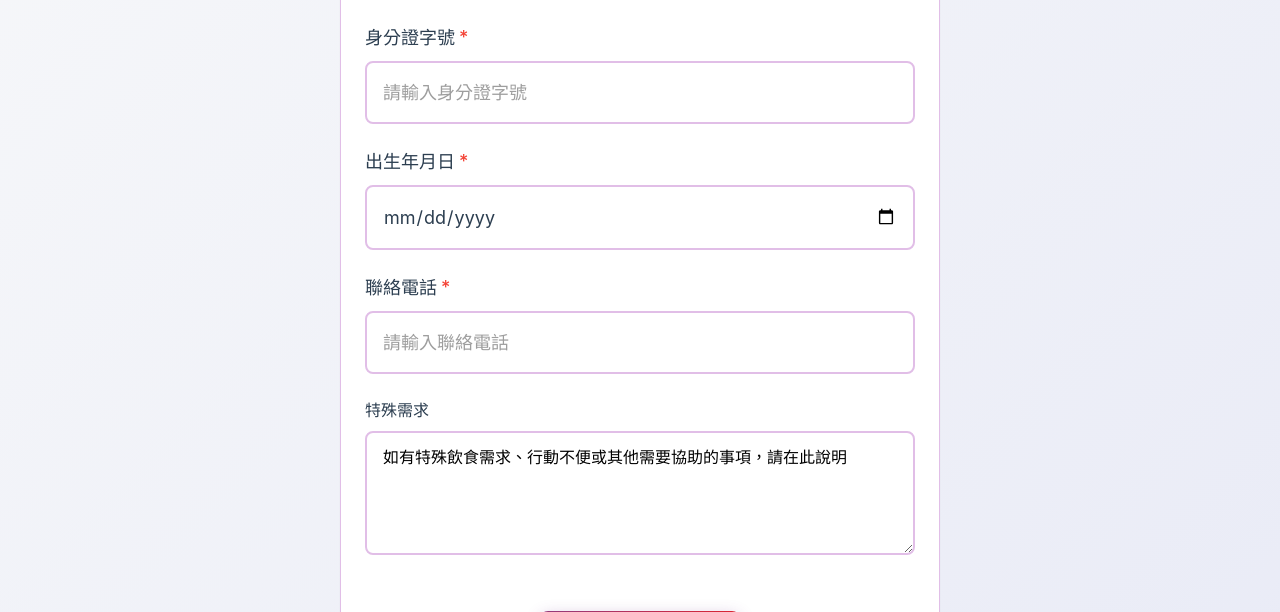
it: PersonalInfoForm › Form Validation › should validate phone number format
(page scrolled)
Type "123" into the field labelled "聯絡電話*". click: (640, 342)
box: [365, 311, 915, 374]
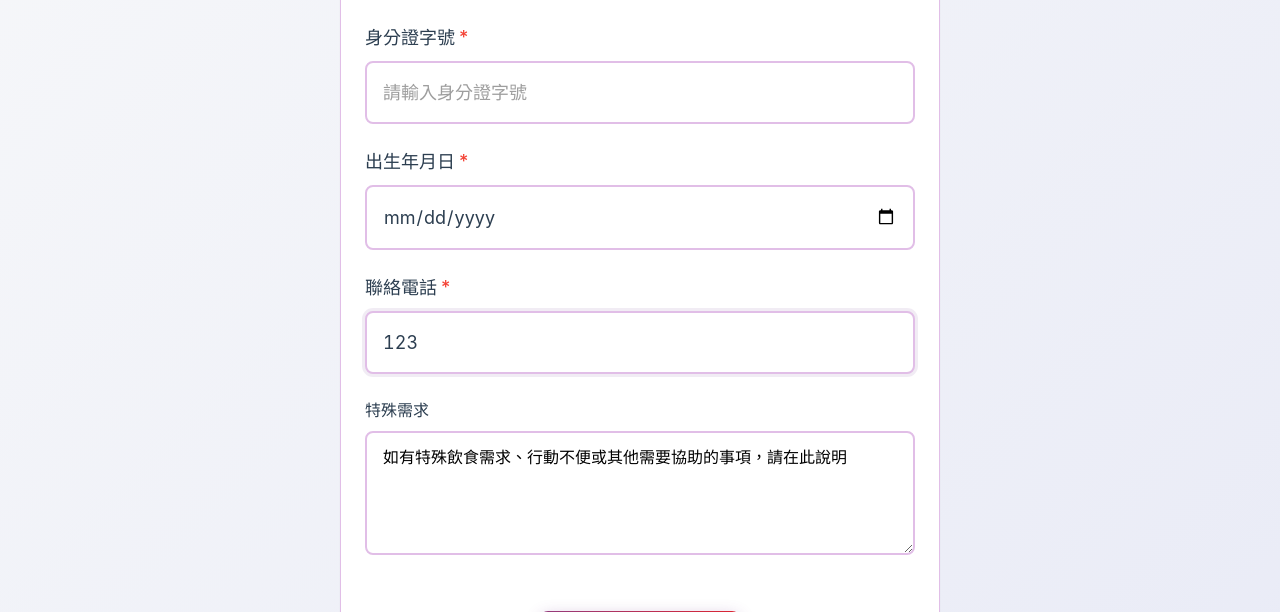
Press Tab
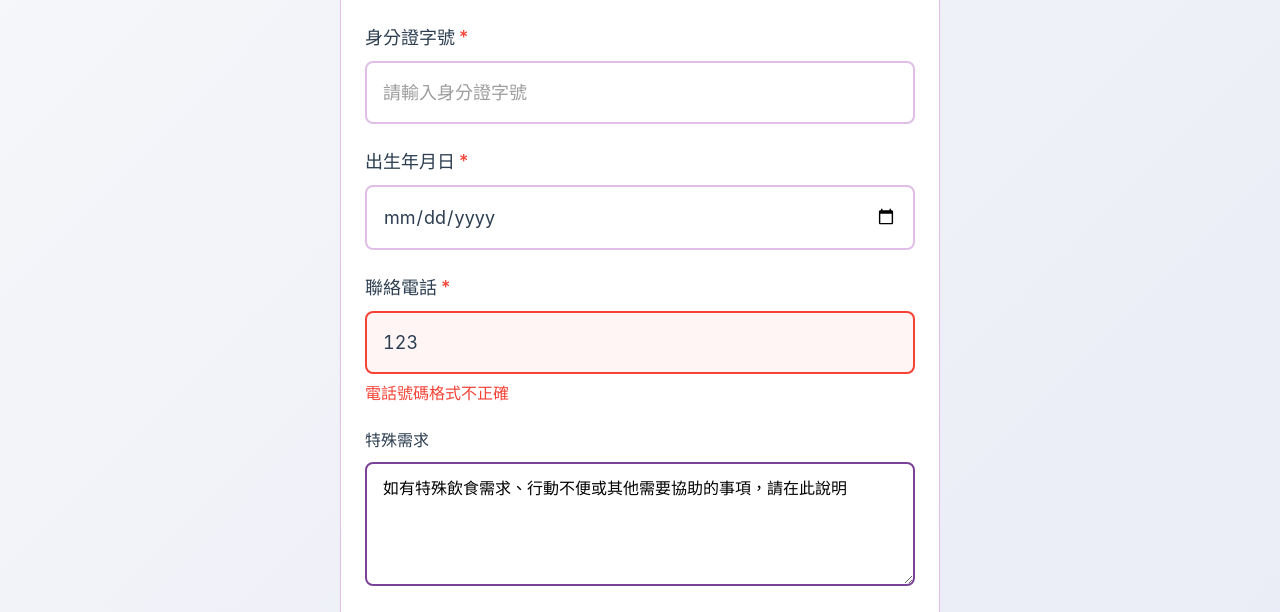
Check: the text "電話號碼格式不正確" is shown, box [365, 383, 509, 403]
